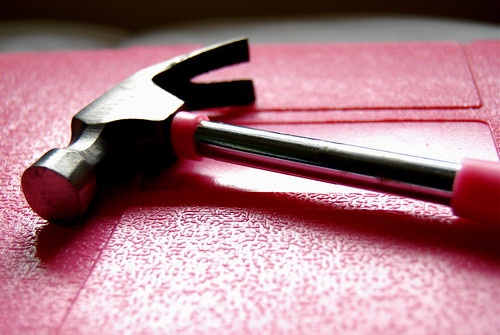hammer: (21, 35, 500, 226)
